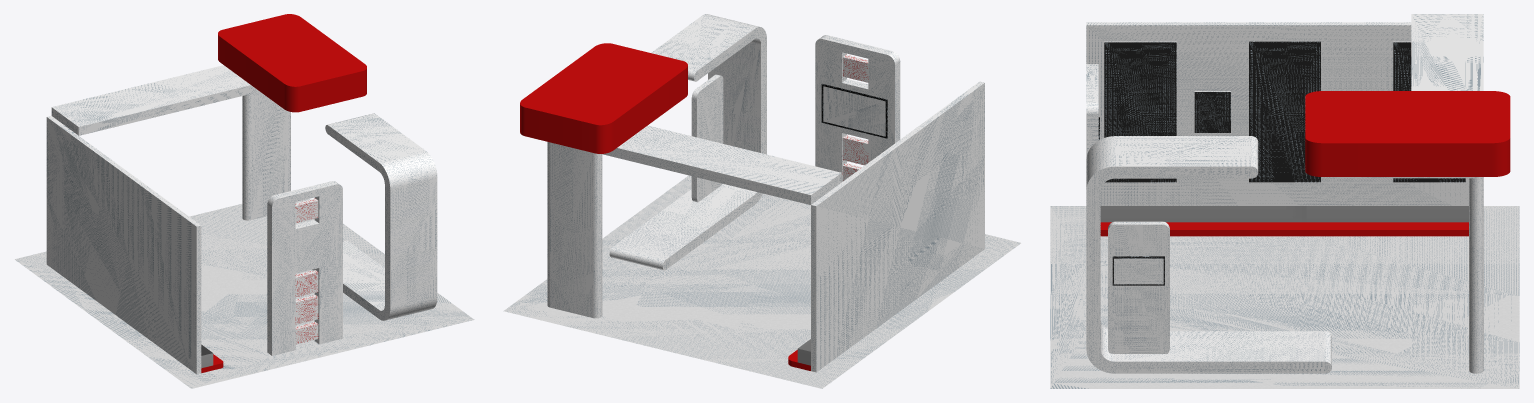
File: Booth.dae
3 renders of one model, left to right at view 1: azimuth 30°, elevation 25°; view 2: azimuth 150°, elevation 25°; view 3: azimuth 270°, elevation 25°, orthographic. The views are drawn at different scales.
Visible parts, largest first — view 1: group_10, SketchUp, group_0, group_9 (×5), group_8, group_5, group_7; view 2: SketchUp (×3), group_10, group_0, group_8, group_7, group_9 (×3), group_5, group_4, group_6; view 3: SketchUp (×6), group_10, group_0, group_8, group_4, group_5, group_1, group_7, group_3, group_9.
Part boxes in pixels (box(x1,y1,x2,y2)): group_10: box(46, 116, 201, 374); SketchUp: box(15, 199, 474, 388); group_0: box(312, 113, 437, 320); group_9 (×5): box(267, 181, 342, 355); group_8: box(218, 14, 366, 112); group_5: box(51, 65, 259, 135); group_7: box(242, 92, 290, 220); SketchUp (×3): box(503, 84, 1020, 388); group_10: box(811, 81, 984, 372); group_0: box(609, 14, 766, 270); group_8: box(520, 43, 687, 153); group_7: box(547, 142, 602, 318); group_9 (×3): box(815, 35, 900, 181); group_5: box(617, 125, 841, 204); group_4: box(691, 74, 723, 202); group_6: box(602, 148, 810, 204); SketchUp (×6): box(1050, 41, 1519, 388); group_10: box(1086, 22, 1468, 205); group_0: box(1086, 136, 1331, 373); group_8: box(1305, 91, 1510, 176); group_4: box(1108, 221, 1169, 353); group_5: box(1411, 14, 1483, 90); group_1: box(1100, 222, 1468, 236); group_7: box(1469, 177, 1483, 373); group_3: box(1114, 258, 1163, 284); group_9: box(1086, 64, 1098, 158).
Bounding box in the file's own units: 236 × 256 × 145.
Materials: 8 (2 with a texture image).
